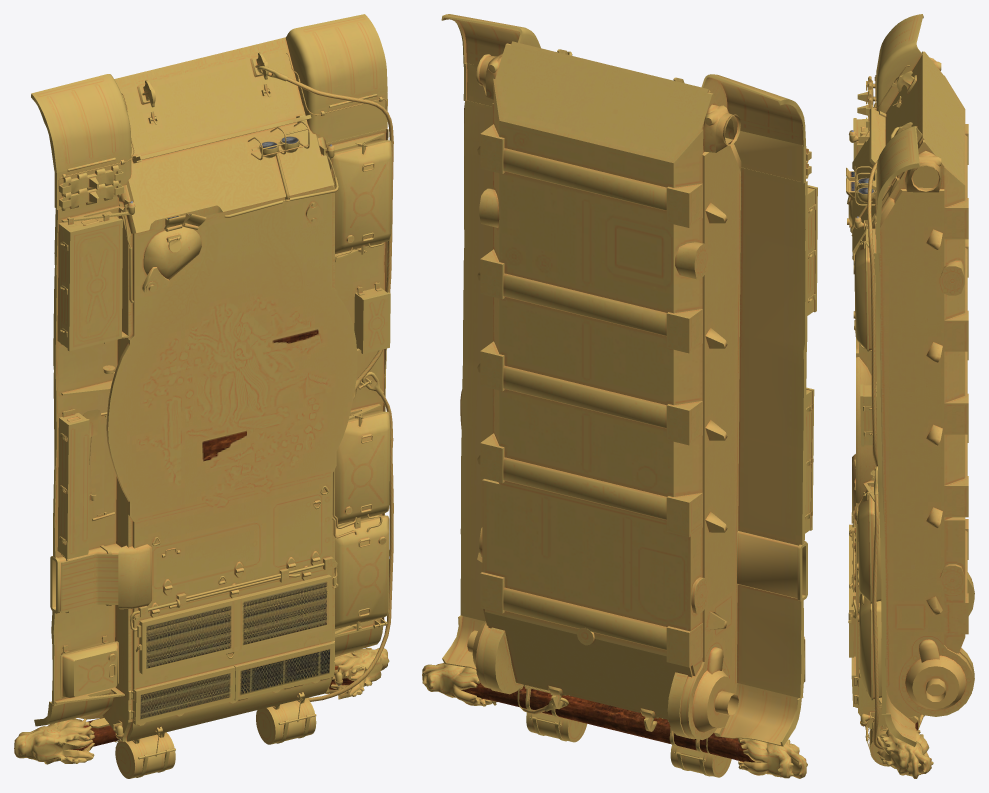
Rendered from Hull.glb.
3 renders of one model, left to right at view 1: azimuth 30°, elevation 25°; view 2: azimuth 150°, elevation 25°; view 3: azimuth 270°, elevation 25°, orthographic. The views are drawn at different scales.
Parts seen in each view (by area): view 1: set_0_group_0; view 2: set_0_group_0; view 3: set_0_group_0.
Part boxes in pixels (left/top/right/bottom): set_0_group_0: left=14, top=14, right=393, bottom=778; set_0_group_0: left=422, top=14, right=817, bottom=778; set_0_group_0: left=846, top=14, right=974, bottom=778.
Bounding box in the file's own units: 3.7 × 6.56 × 1.19.
Materials: 1 (1 with a texture image).
